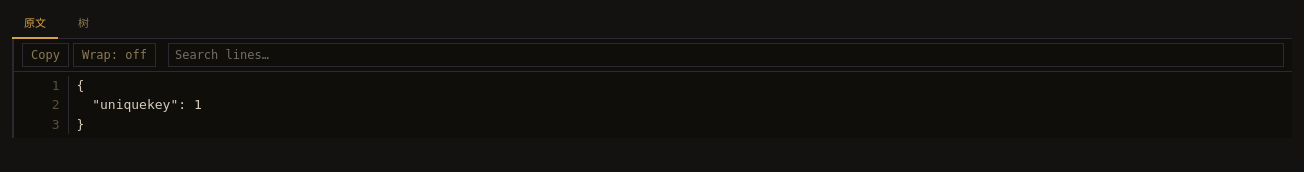
it: RawJsonView 双视图切换 › 默认 source 视图不渲染树节点(负断言 + 正控制:切树后节点出现)
Click the tab "树".
click(84, 25)  # box [66,12,101,38]
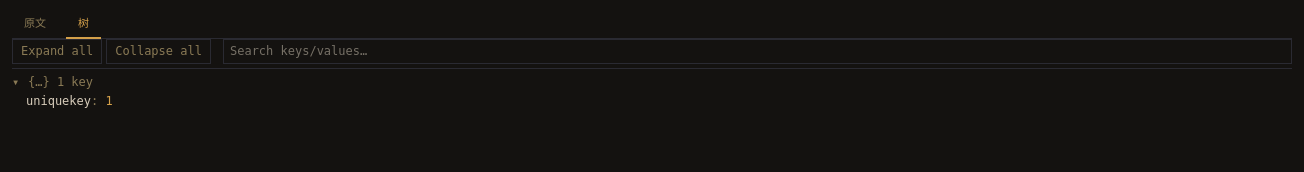
Result: the text "uniquekey" is shown at [26,94,91,108]
